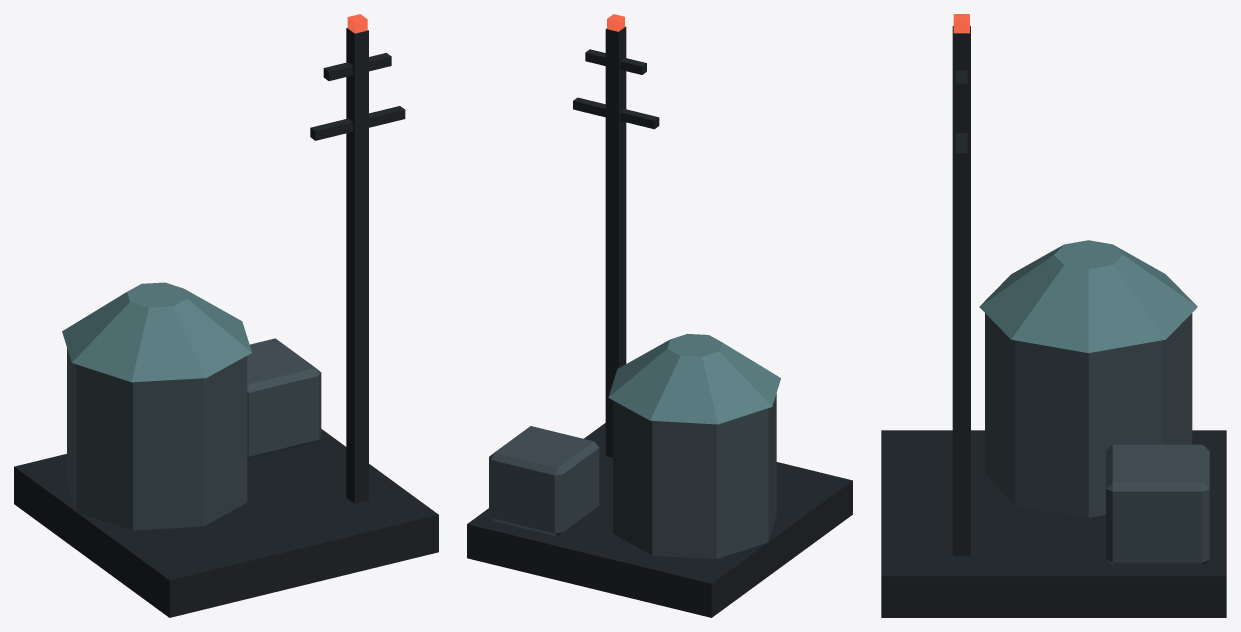
File: Env_Rooftop.fbx
3 views of the same model, side by side, from view 1: azimuth 30°, elevation 25°; view 2: azimuth 150°, elevation 25°; view 3: azimuth 270°, elevation 25° (orthographic). The views are drawn at different scales.
Visible parts, largest first — view 1: Env_Rooftop; view 2: Env_Rooftop; view 3: Env_Rooftop.
Part boxes in pixels (left/top/right/bottom): Env_Rooftop: left=14, top=14, right=438, bottom=617; Env_Rooftop: left=467, top=14, right=852, bottom=617; Env_Rooftop: left=881, top=14, right=1226, bottom=617.
Bounding box in the file's own units: 3.05 × 3 × 5.52.
